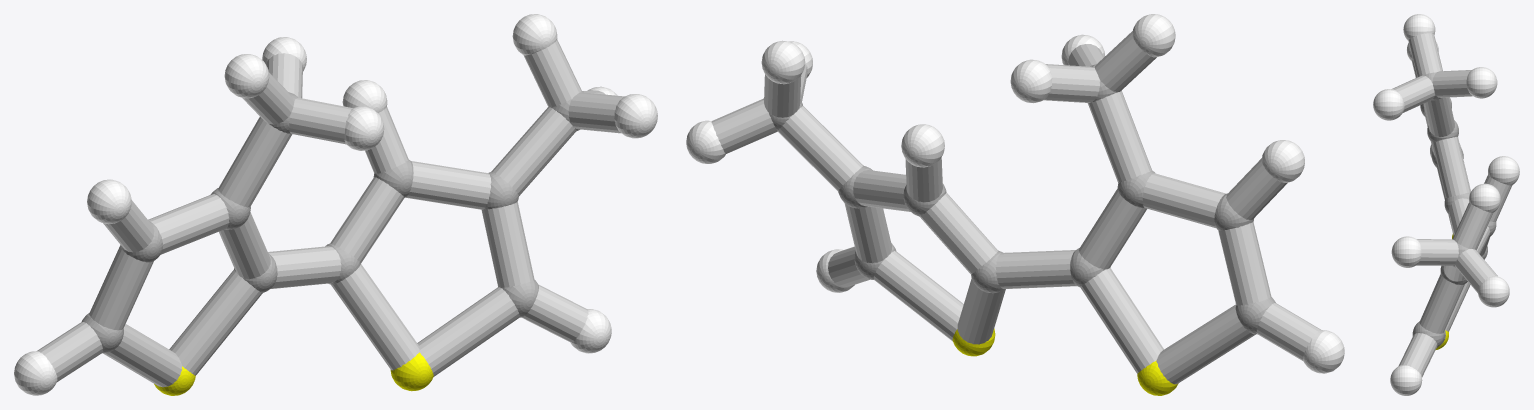
The model's file is Methylthiophene_Phi_25_Theta_150_Methylthiophene.glb.
3 views of the same model, side by side, from view 1: azimuth 30°, elevation 25°; view 2: azimuth 150°, elevation 25°; view 3: azimuth 270°, elevation 25° (orthographic). The views are drawn at different scales.
Parts seen in each view (by area): view 1: grp7965, grp3621, grp1, grp7241; view 2: grp7965, grp3621, grp1, grp7241; view 3: grp7965, grp3621, grp1.
Boxes of the visible parts, x1,y1,x2,y2 form: grp7965: (37,39,624,387); grp3621: (14,14,657,395); grp1: (81,91,583,353); grp7241: (154,352,433,395); grp7965: (711,31,1320,384); grp3621: (686,14,1344,373); grp1: (763,64,1275,334); grp7241: (952,328,1178,395); grp7965: (1391,33,1512,377); grp3621: (1373,14,1519,395); grp1: (1412,72,1496,347).
Size of the model in its own units: 9.83 by 5.66 by 2.76.
